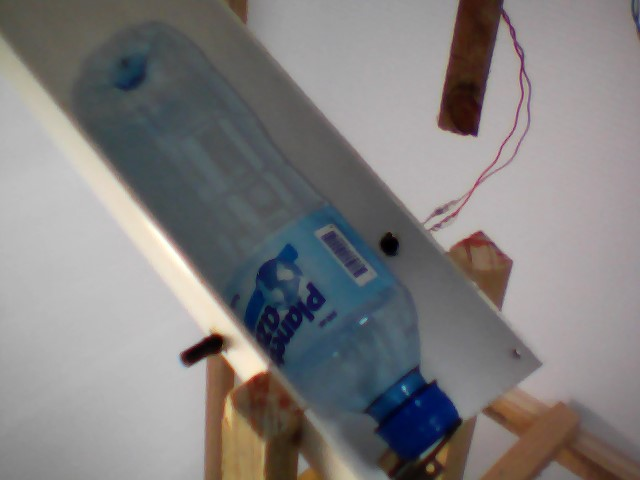plastico: (59, 5, 469, 452)
